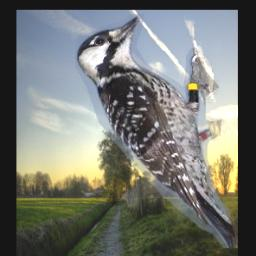Woodpecker: (75, 15, 238, 249)
